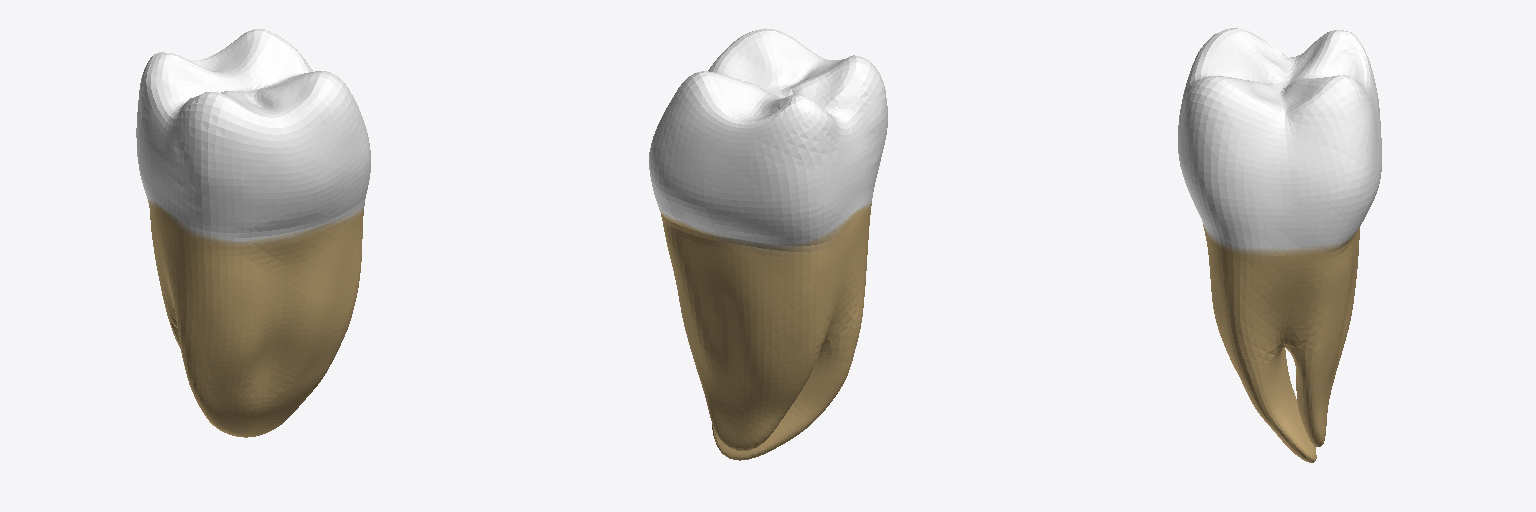
The picture shows the model from 3 angles: view 1: azimuth 30°, elevation 25°; view 2: azimuth 150°, elevation 25°; view 3: azimuth 270°, elevation 25°; orthographic projection.
Visible parts, largest first — view 1: outer; view 2: outer; view 3: outer.
Boxes of the visible parts, box(x1,y1,x2,y2) form: outer: box(136, 29, 370, 437); outer: box(649, 28, 887, 460); outer: box(1178, 28, 1381, 462).
Bounding box in the file's own units: 3.74 × 7.51 × 3.55.
Materials: 2 (1 with a texture image).